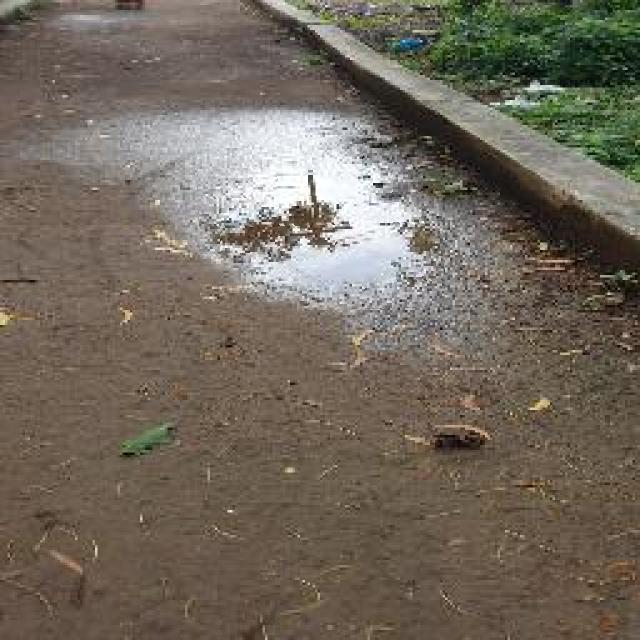puddle: (199, 136, 445, 314)
